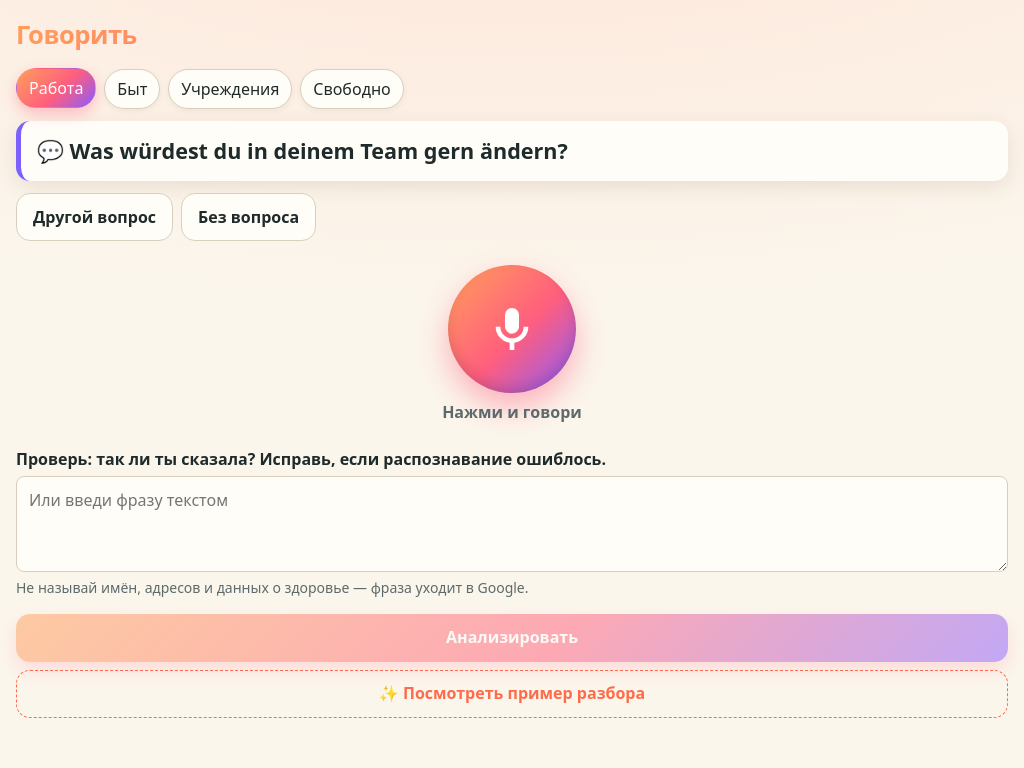
Test case: SpeakPage › shows a friendly message for {"name":"AiError","code":"NETWORK"}
This screenshot has width=1024, height=768.
In the text box: coordinates (512, 524) [16, 476, 1008, 572], type "Hallo Welt"
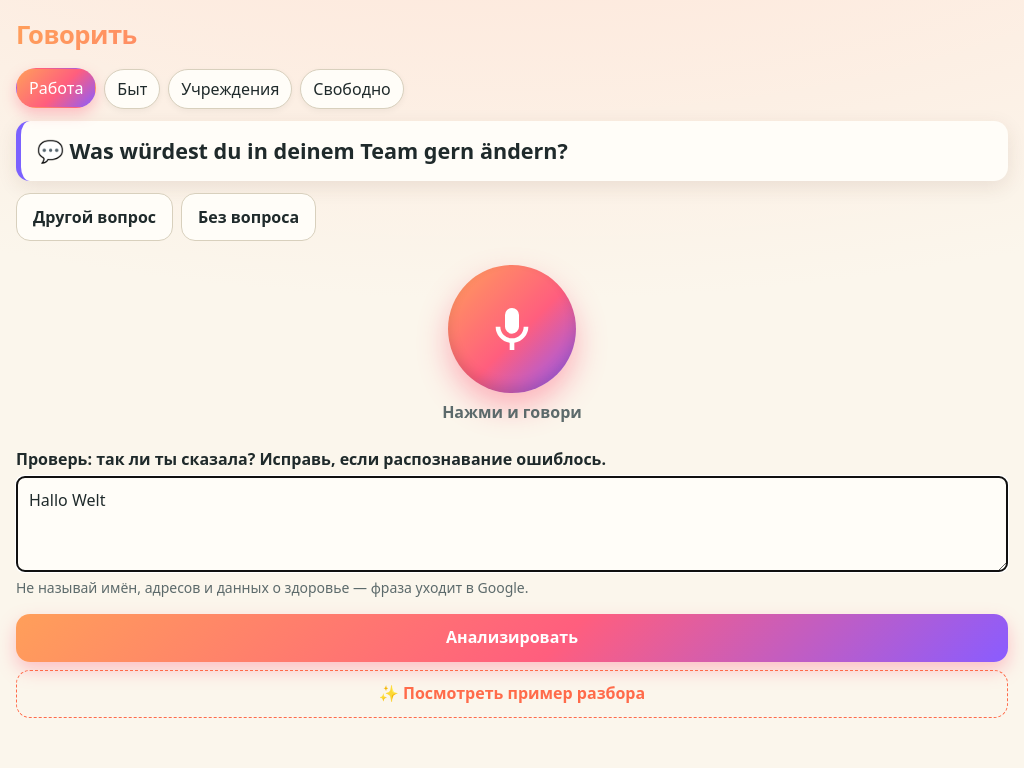
Click the button "Анализировать": coordinates (512, 638) [16, 614, 1008, 662]
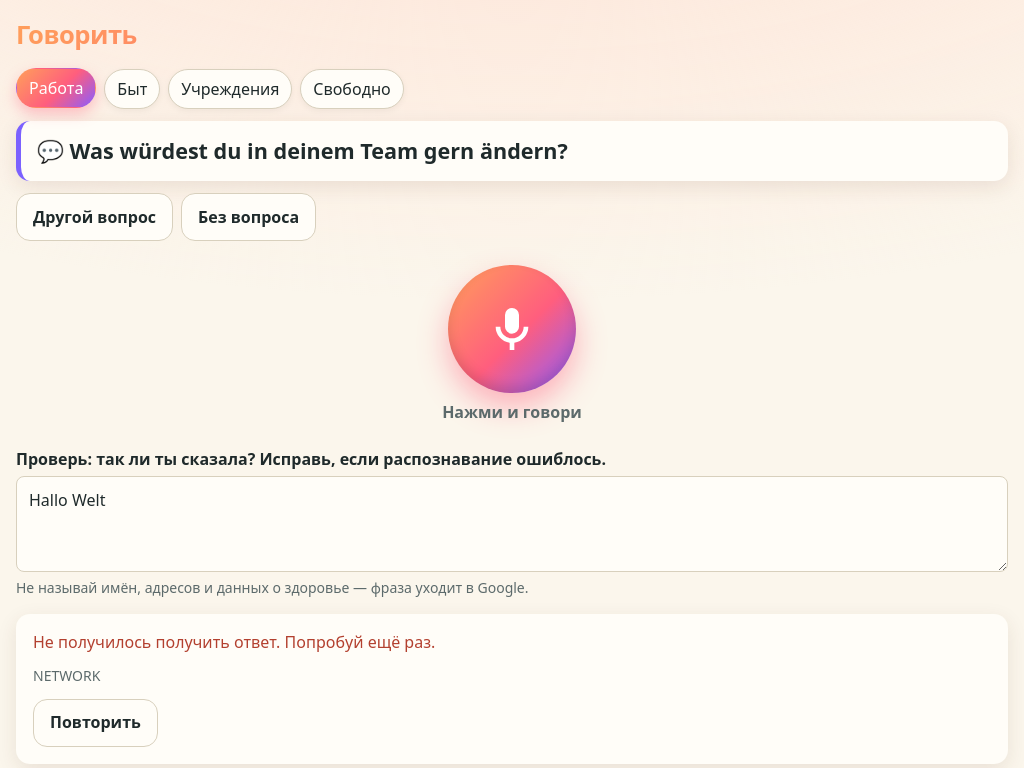
Check: the message shows "Не получилось получить ответ. Попробуй ещё раз.", box [33, 631, 435, 653]
